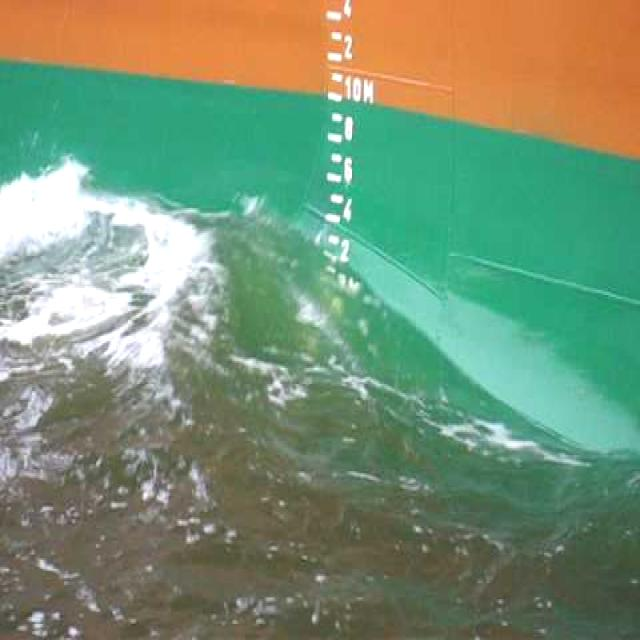Ship Draft Marks: (364, 78, 374, 106), (353, 76, 361, 105), (344, 157, 352, 185), (345, 116, 353, 142), (344, 198, 352, 224), (344, 36, 352, 60), (342, 240, 349, 264), (344, 0, 352, 20), (345, 76, 351, 102)
